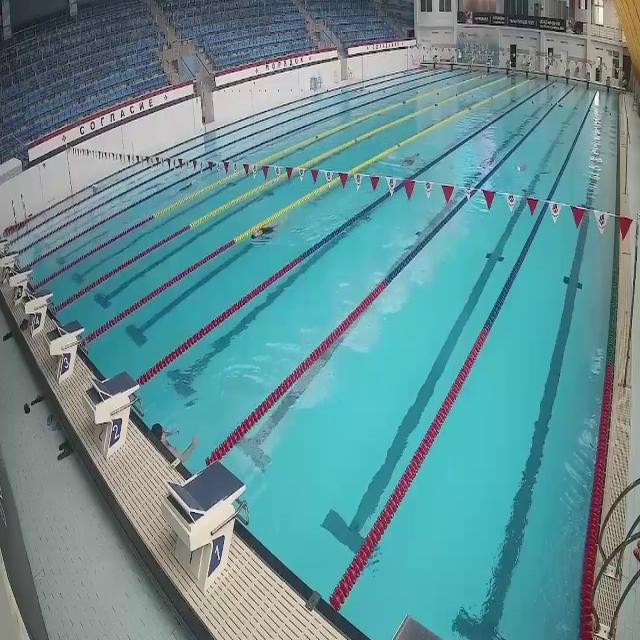Swimming: (250, 219, 288, 241), (164, 179, 198, 201), (401, 152, 421, 167), (514, 164, 528, 173)
